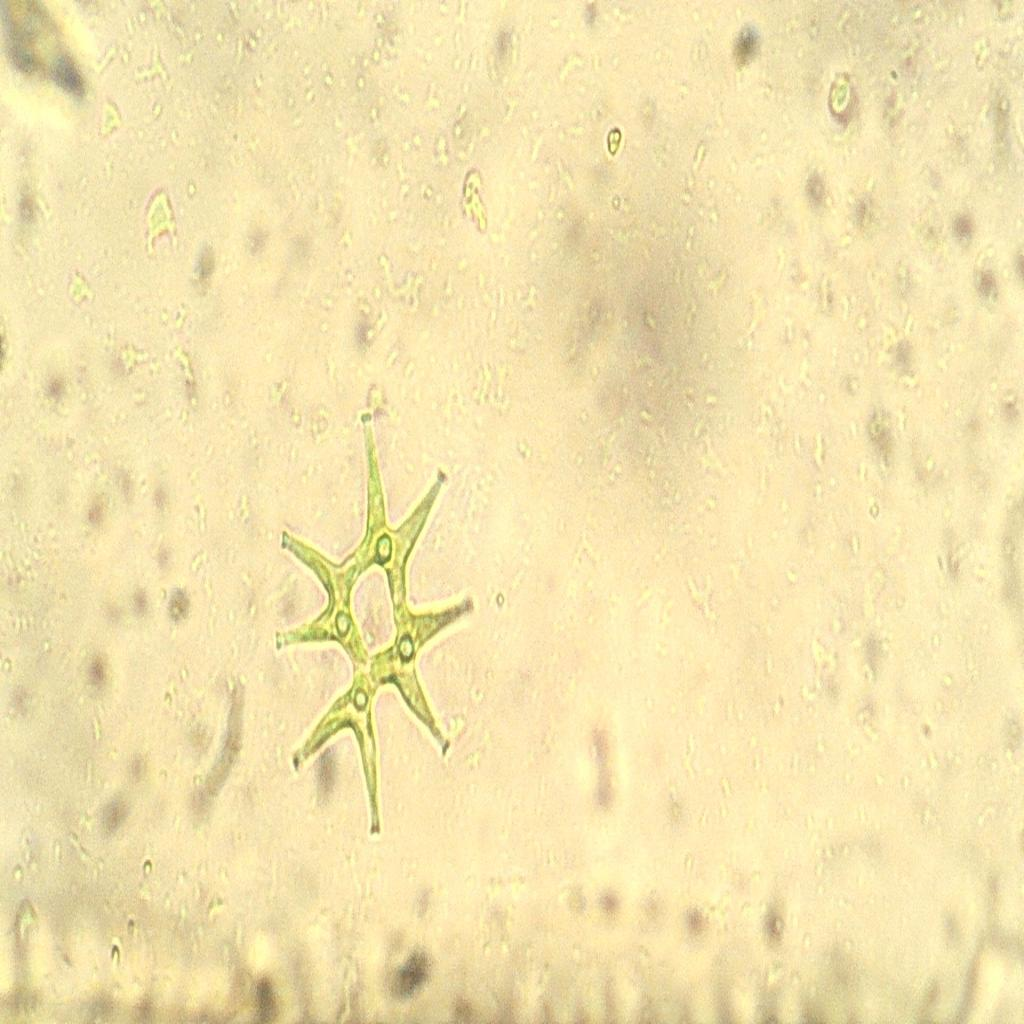Pediastrum_75FI: (262, 371, 480, 868)
